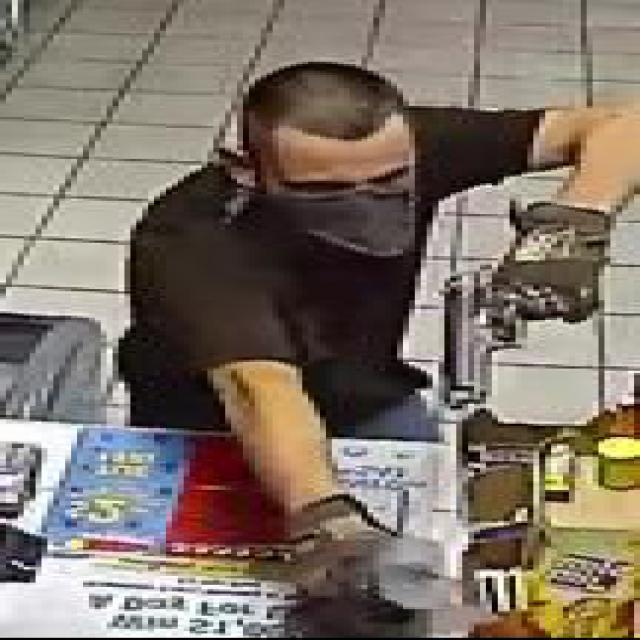Gun: (438, 261, 616, 408)
